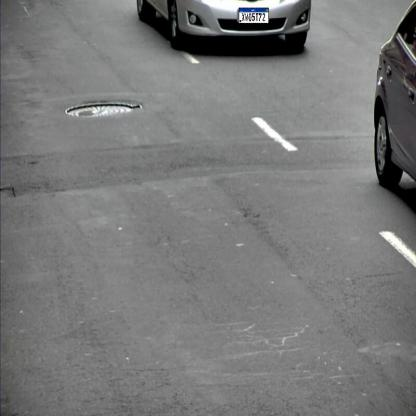PlacaM: (239, 7, 269, 24)
